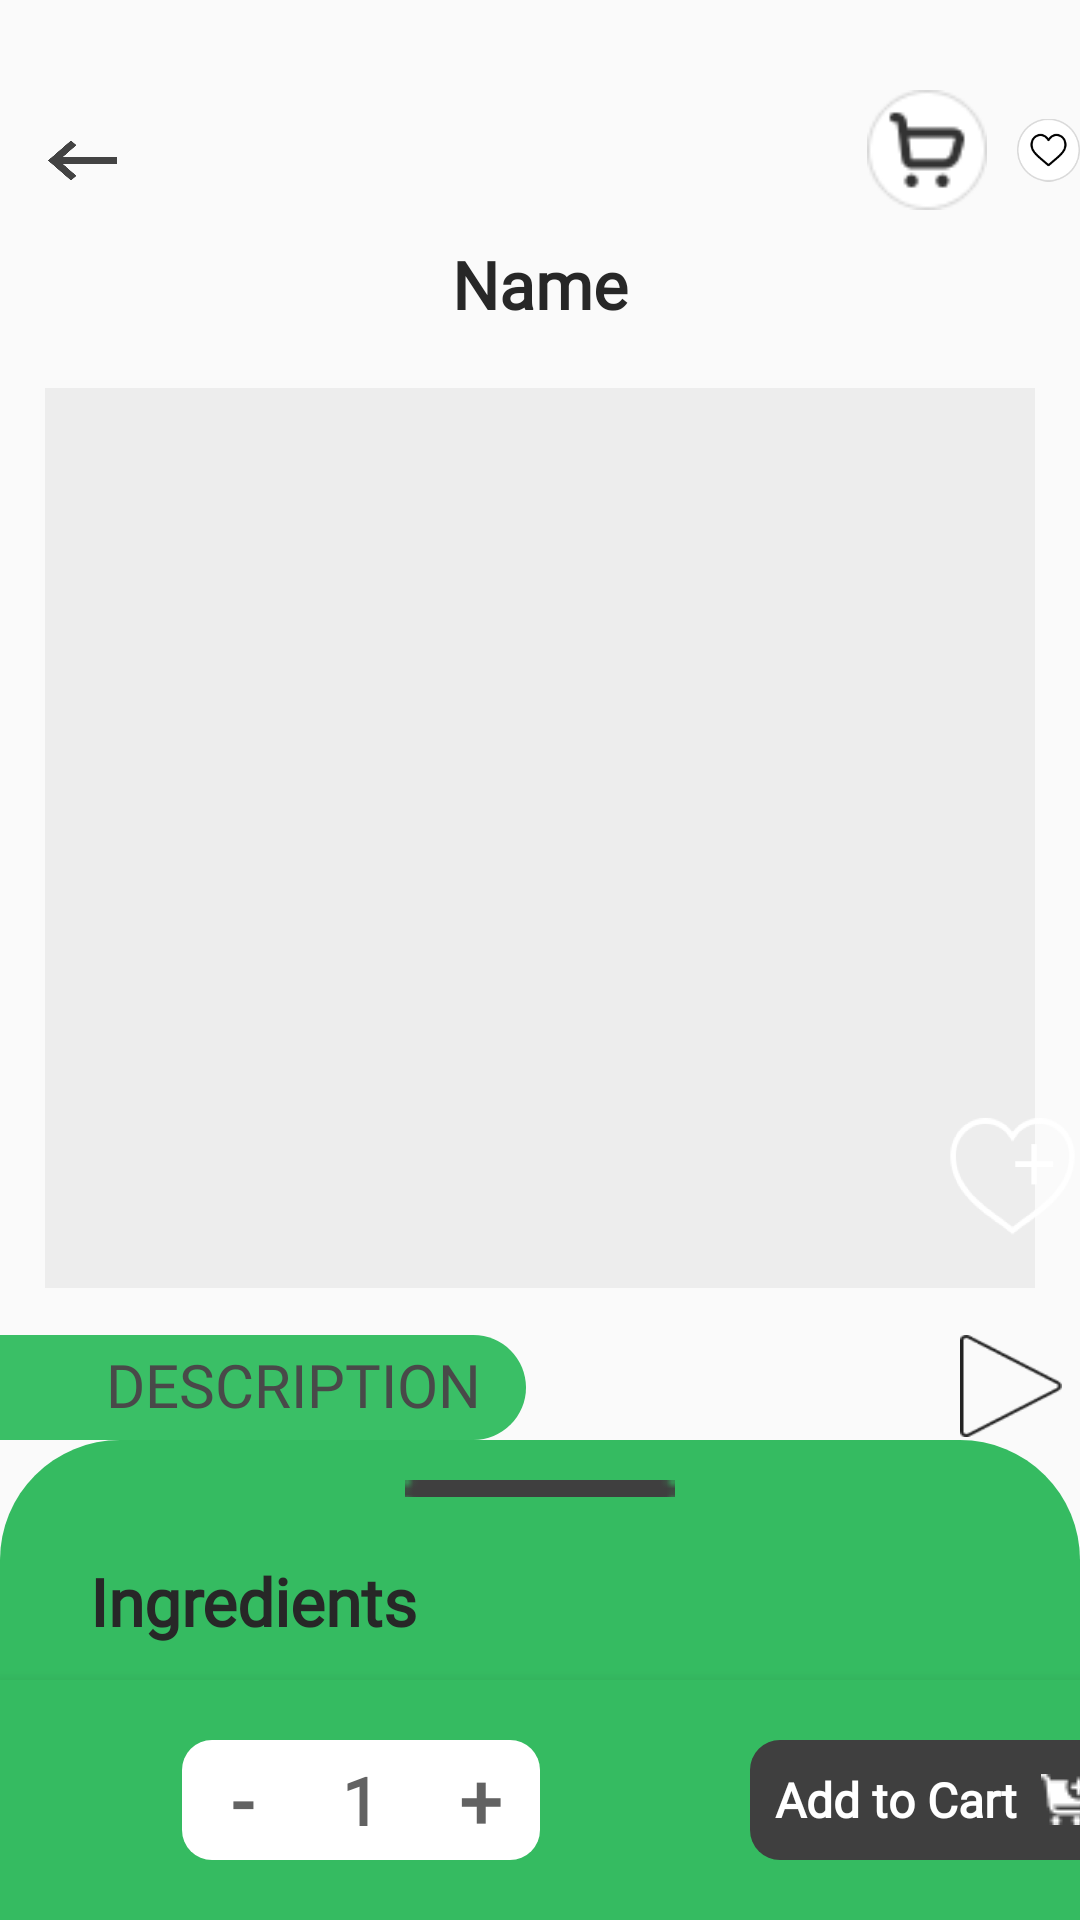

Named icons in this screenshot (1080×1920) and their bounding boxes, (x1, y1, x2, y2):
arrow: (48, 141, 117, 180)
favorites: (1017, 119, 1080, 182)
play: (960, 1335, 1062, 1437)
